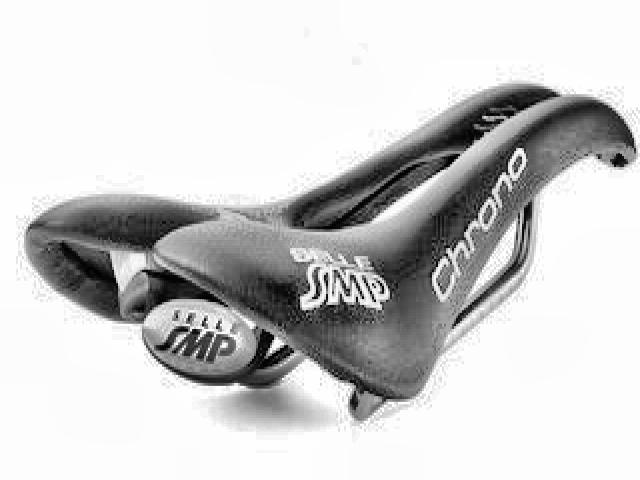saddle: (23, 73, 639, 424)
